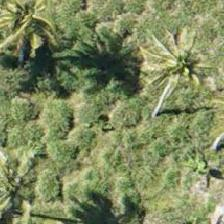coconut_tree: (128, 21, 218, 111), (0, 128, 53, 218), (0, 0, 63, 71)
